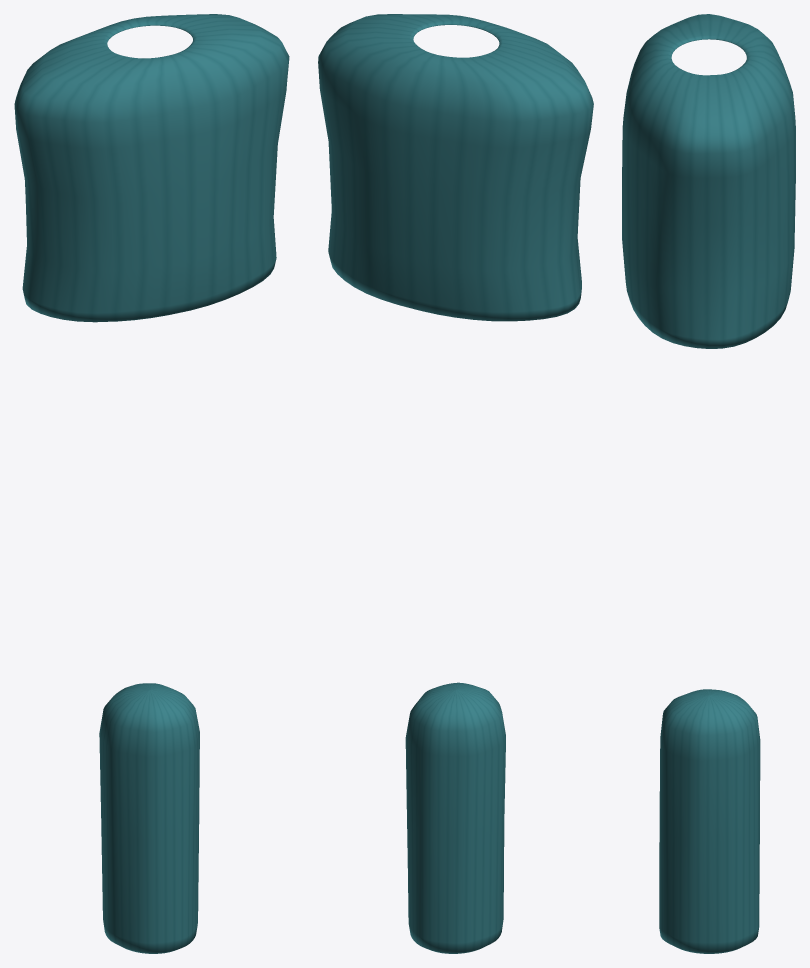
File: reference_long_sleeve_shirt.gltf
3 views of the same model, side by side, from view 1: azimuth 30°, elevation 25°; view 2: azimuth 150°, elevation 25°; view 3: azimuth 270°, elevation 25° (orthographic).
Visible parts, largest first — view 1: Torso, SleeveL; view 2: Torso, SleeveL; view 3: Torso, SleeveL.
Part boxes in pixels (x1,y1,x2,y2): Torso: [14, 14, 289, 322]; SleeveL: [99, 683, 199, 953]; Torso: [318, 14, 593, 321]; SleeveL: [405, 682, 505, 953]; Torso: [622, 14, 795, 348]; SleeveL: [659, 689, 760, 953].
Bounding box in the file's own units: 0.5276 × 1.73 × 0.3093.
1 material, 1 textured.
